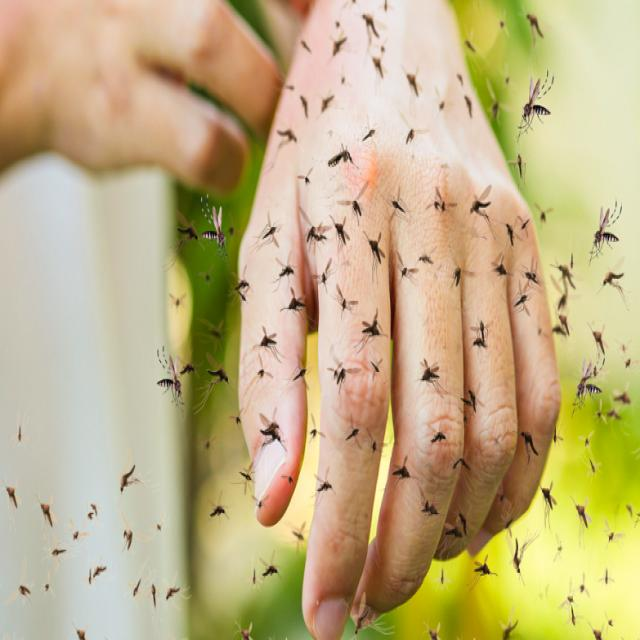Mosquito Swarm: (0, 0, 639, 632)
